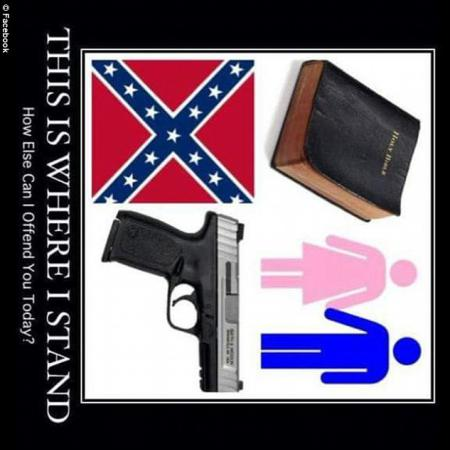Pistol: (101, 206, 248, 392)
